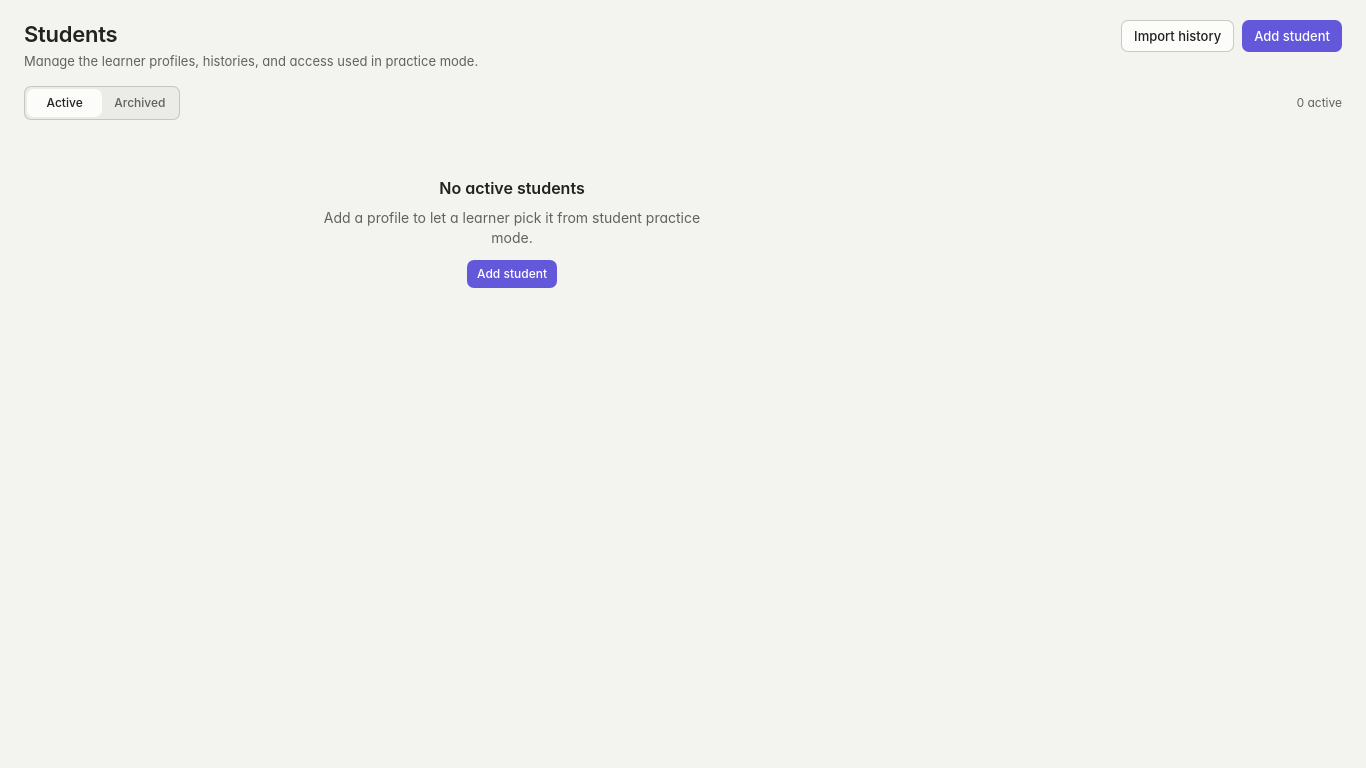
Test: TutorStudents › imports exported student history from the students page
Expected: the heading "No active students" is shown, 439,176 -> 585,200
Click the button "Import history" at (1178, 36), box 1121,20 -> 1234,52
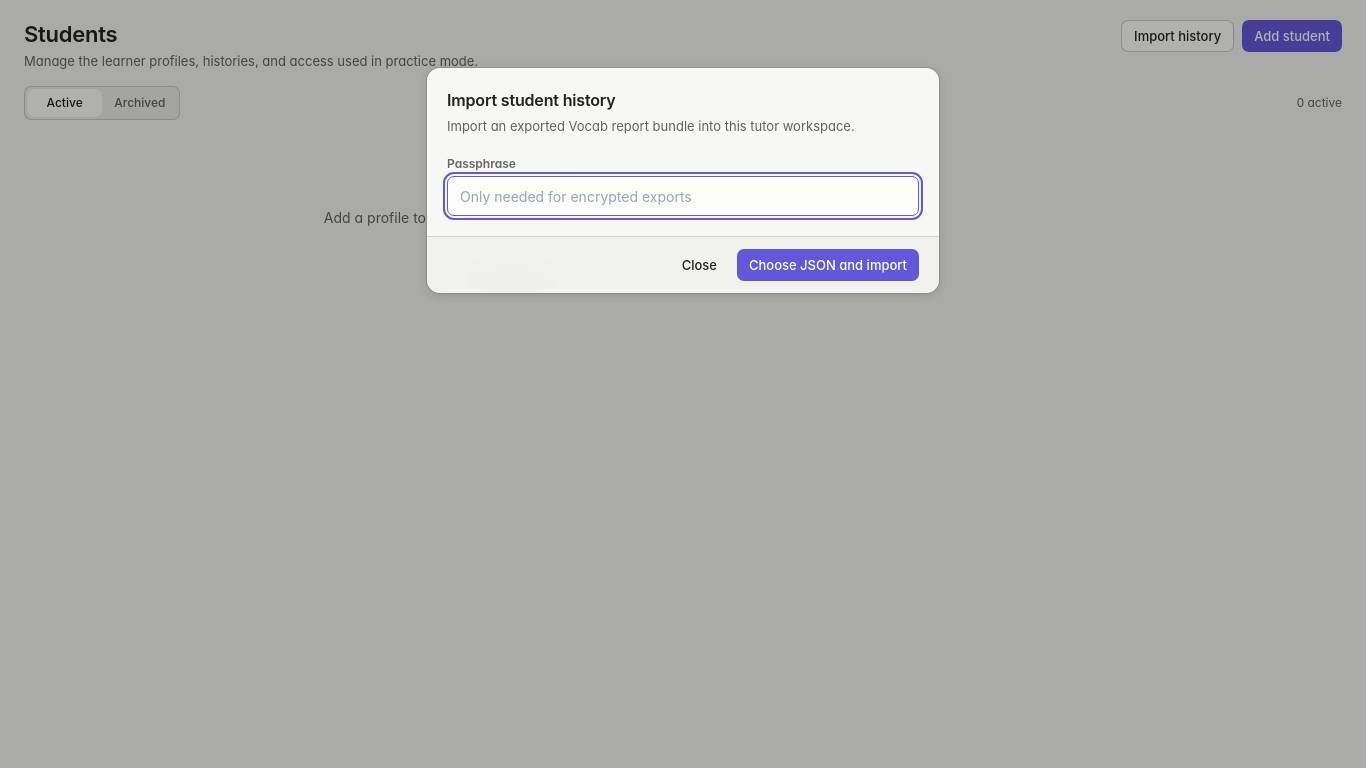
Type "secret123" into the password field labelled "Passphrase" at (683, 196), box 447,176 -> 919,216
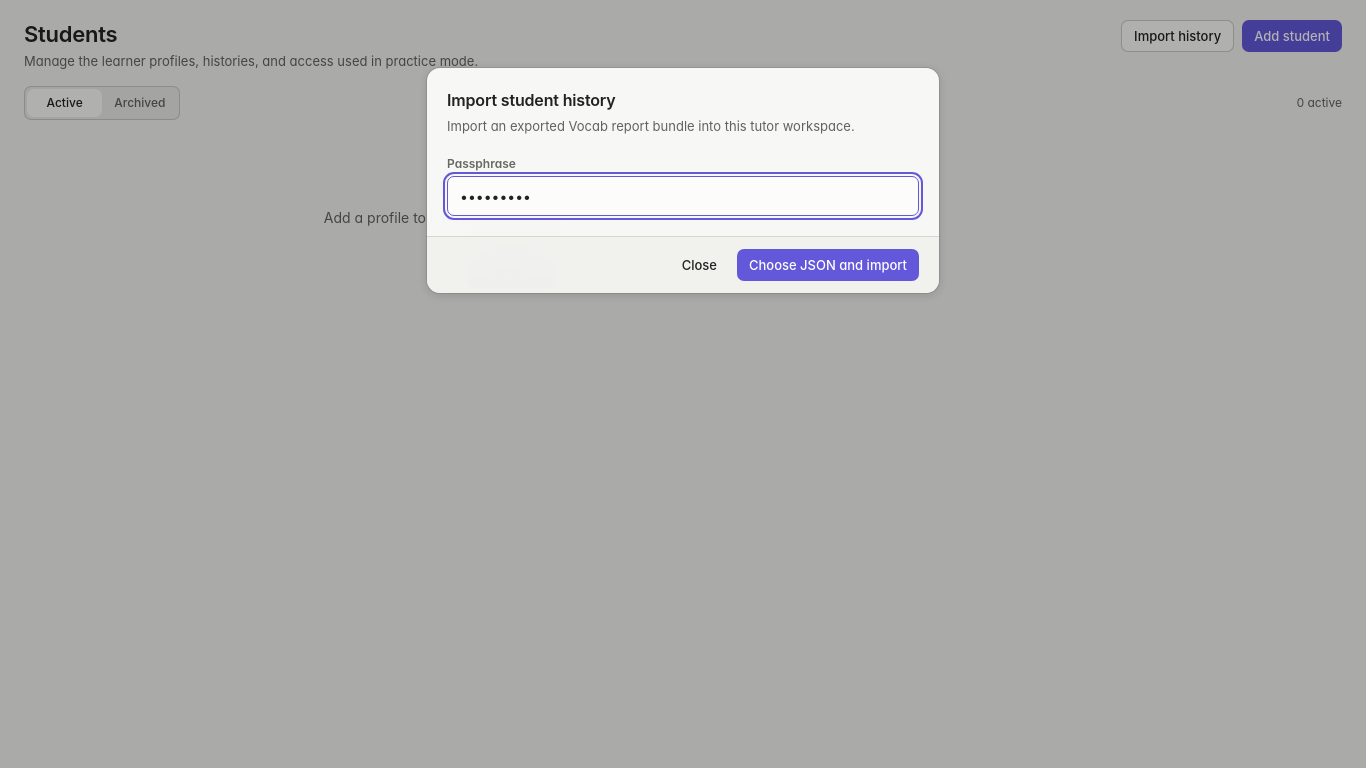
Click the button "Choose JSON and import" at (828, 265), box 737,249 -> 919,281
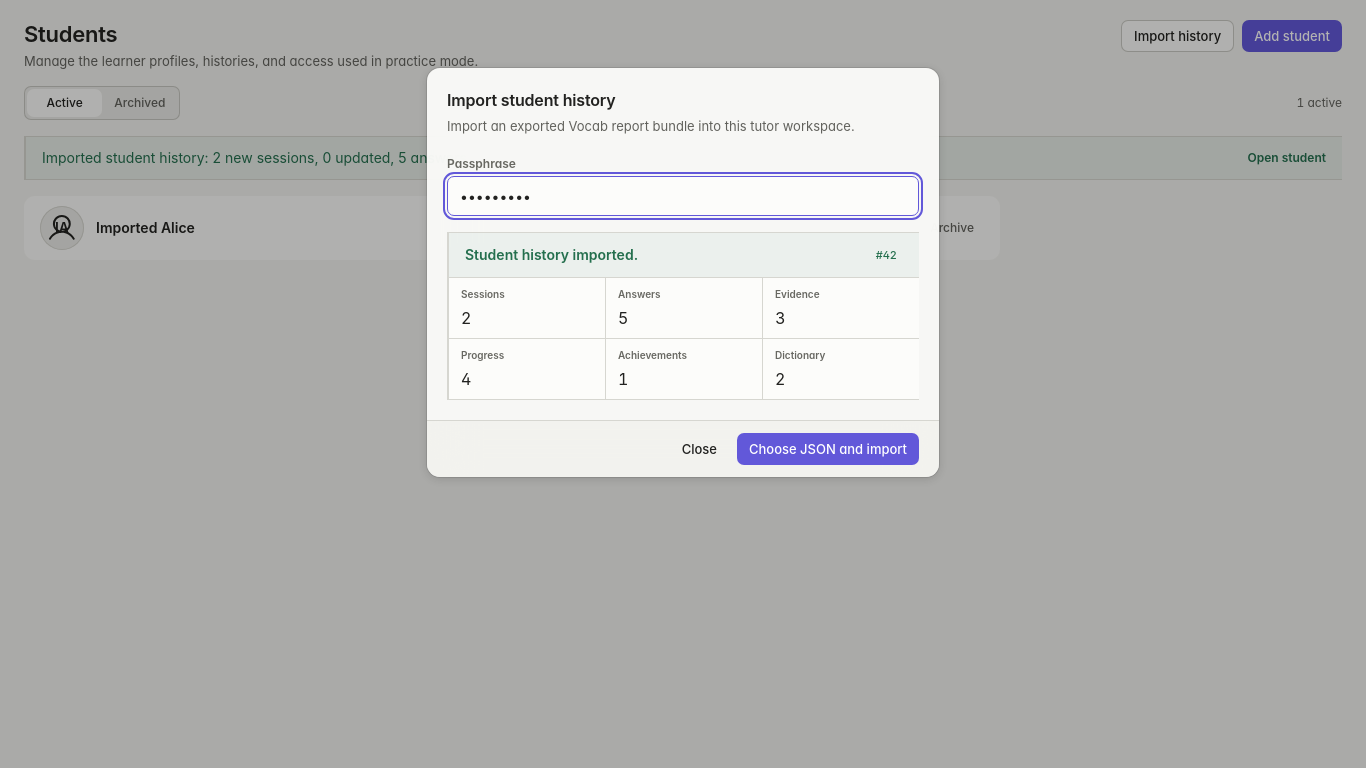
Result: the text "Imported student history: 2 new sessions" is shown at 42,148 -> 471,168
